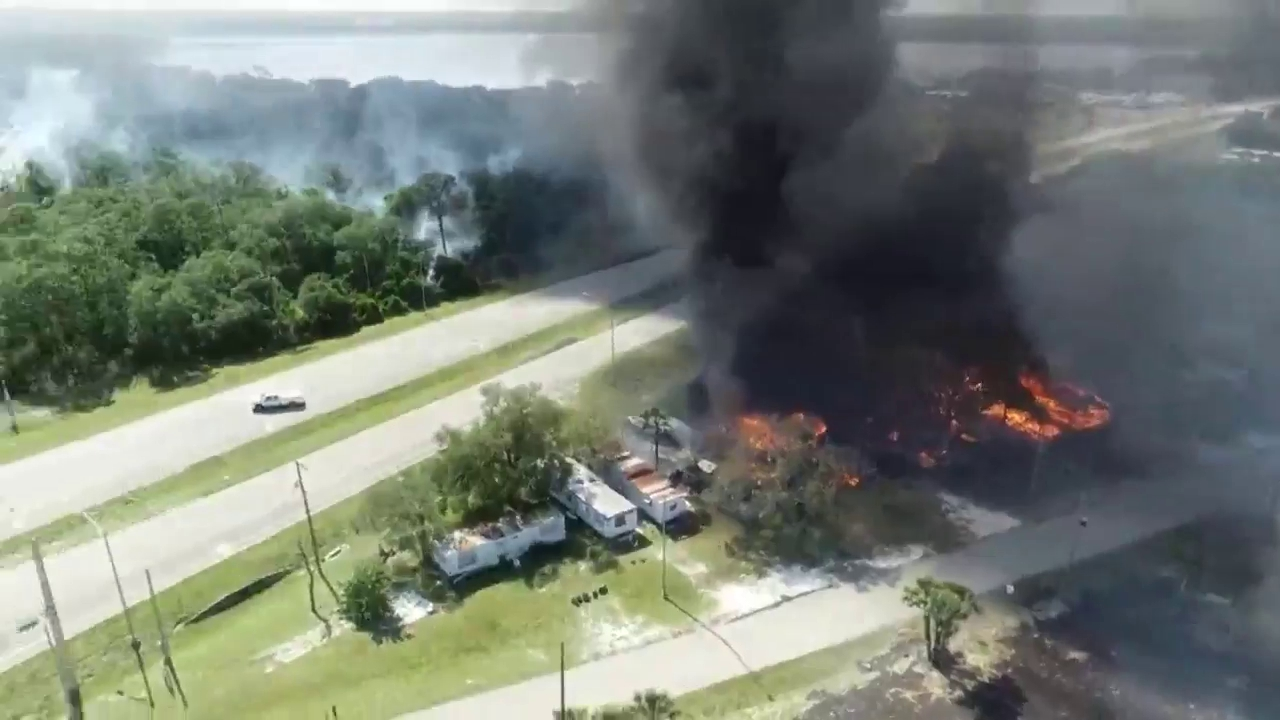forest_fire: (884, 371, 1110, 467), (732, 411, 826, 453), (848, 472, 856, 483)
